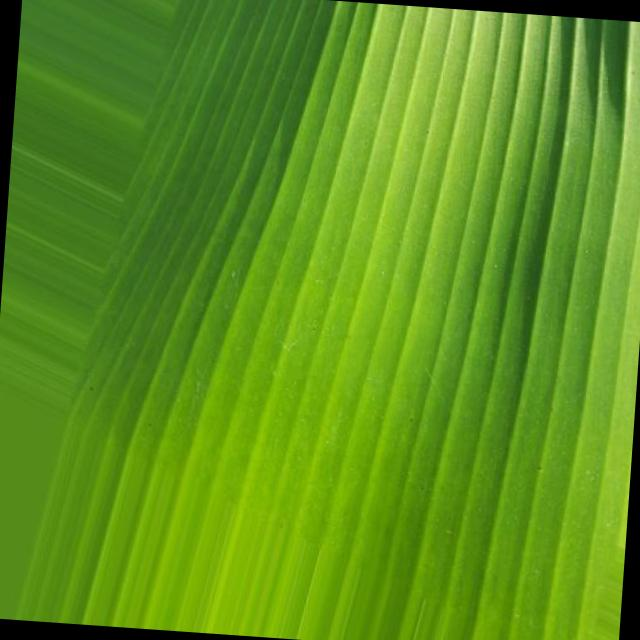Banana_Healthy: (185, 76, 572, 542)
